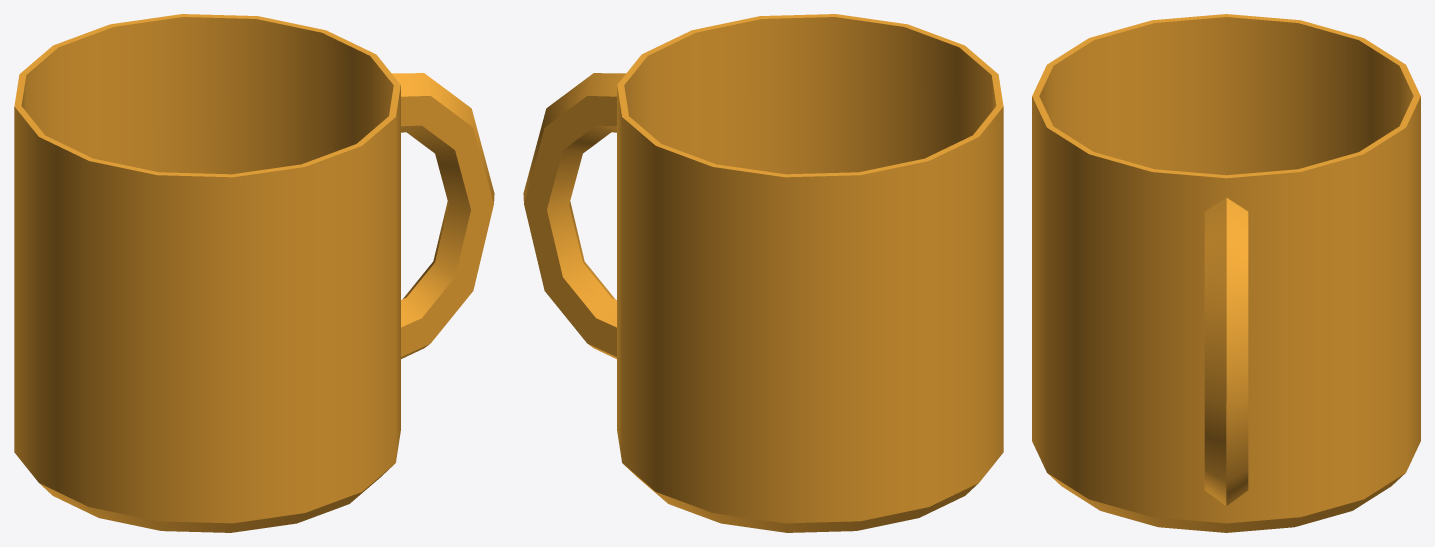
The model's file is Taza04.fbx.
3 renders of one model, left to right at view 1: azimuth 30°, elevation 25°; view 2: azimuth 150°, elevation 25°; view 3: azimuth 270°, elevation 25°, orthographic.
Parts seen in each view (by area): view 1: Taza04; view 2: Taza04; view 3: Taza04.
Part boxes in pixels (left/top/right/bottom): Taza04: left=14, top=14, right=494, bottom=532; Taza04: left=523, top=14, right=1003, bottom=532; Taza04: left=1032, top=14, right=1420, bottom=532.
Bounding box in the file's own units: 0.1046 × 0.0795 × 0.0775.
